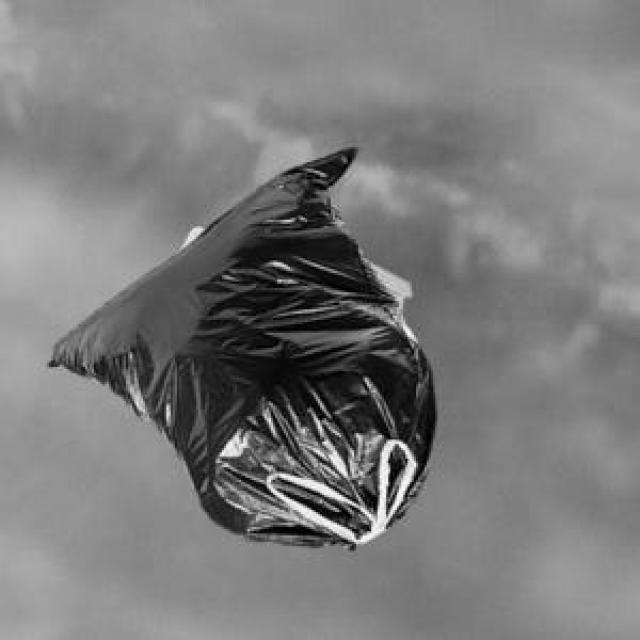miscellaneous trash: (45, 143, 431, 546)
paper: (366, 260, 405, 305)
